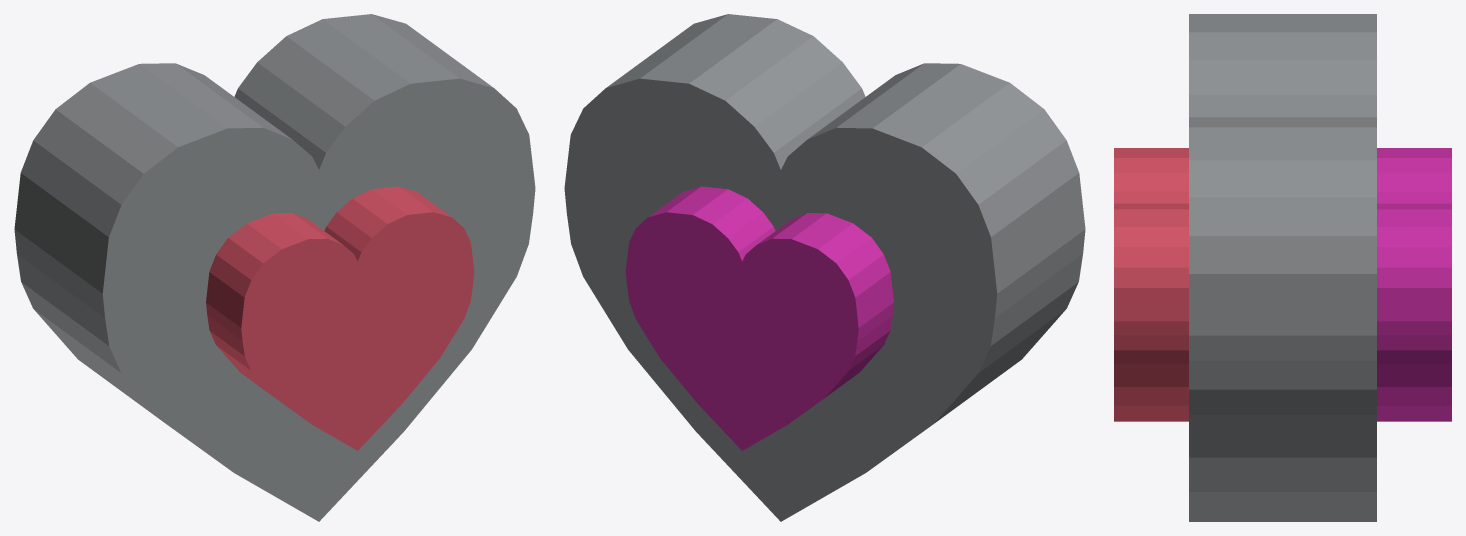
Rendered from heart.glb.
3 renders of one model, left to right at view 1: azimuth 30°, elevation 25°; view 2: azimuth 150°, elevation 25°; view 3: azimuth 270°, elevation 25°, orthographic. The views are drawn at different scales.
Parts seen in each view (by area): view 1: Mesh_Mesh_head_geo.001_lambert2SG.001; view 2: Mesh_Mesh_head_geo.001_lambert2SG.001; view 3: Mesh_Mesh_head_geo.001_lambert2SG.001.
Boxes of the visible parts, x1,y1,x2,y2 form: Mesh_Mesh_head_geo.001_lambert2SG.001: [14, 14, 535, 521]; Mesh_Mesh_head_geo.001_lambert2SG.001: [564, 14, 1085, 521]; Mesh_Mesh_head_geo.001_lambert2SG.001: [1114, 14, 1451, 521].
Bounding box in the file's own units: 28.31 × 26 × 18.
